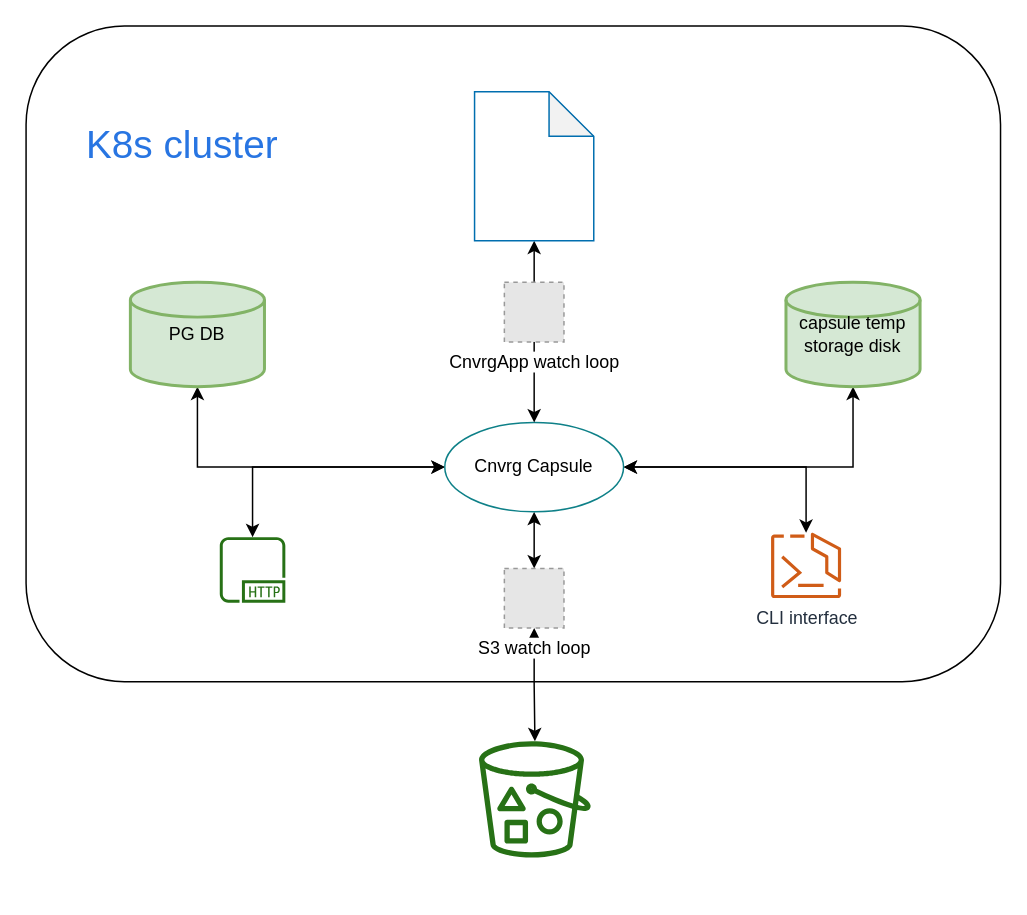
The diagram is 1027 pixels wide and 915 high, and some of its shapes have lost their labels. Grey dashed boxes stand in for pictures. The centre of each missing label's shape, as x and y in pixels:
"CnvrgApp CR" goes at [533,165].
"External S3 Object store" goes at [534,799].
"HTTP Read Only API" goes at [252,569].
